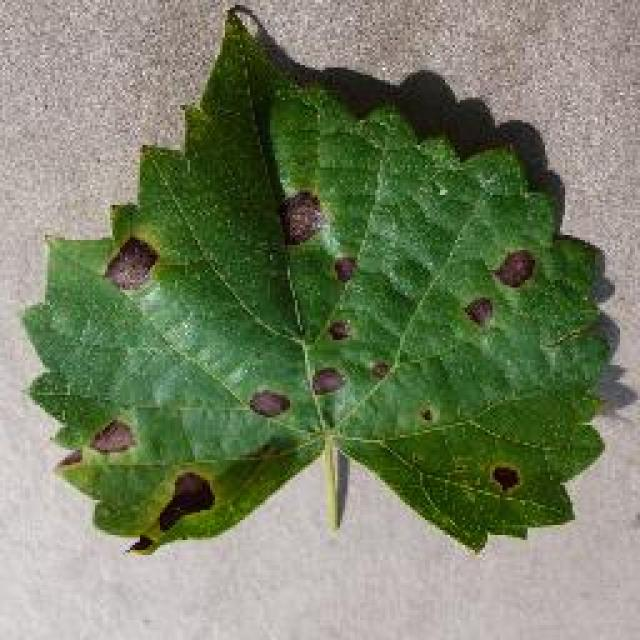Grape___Black_rot: (4, 12, 612, 563)
